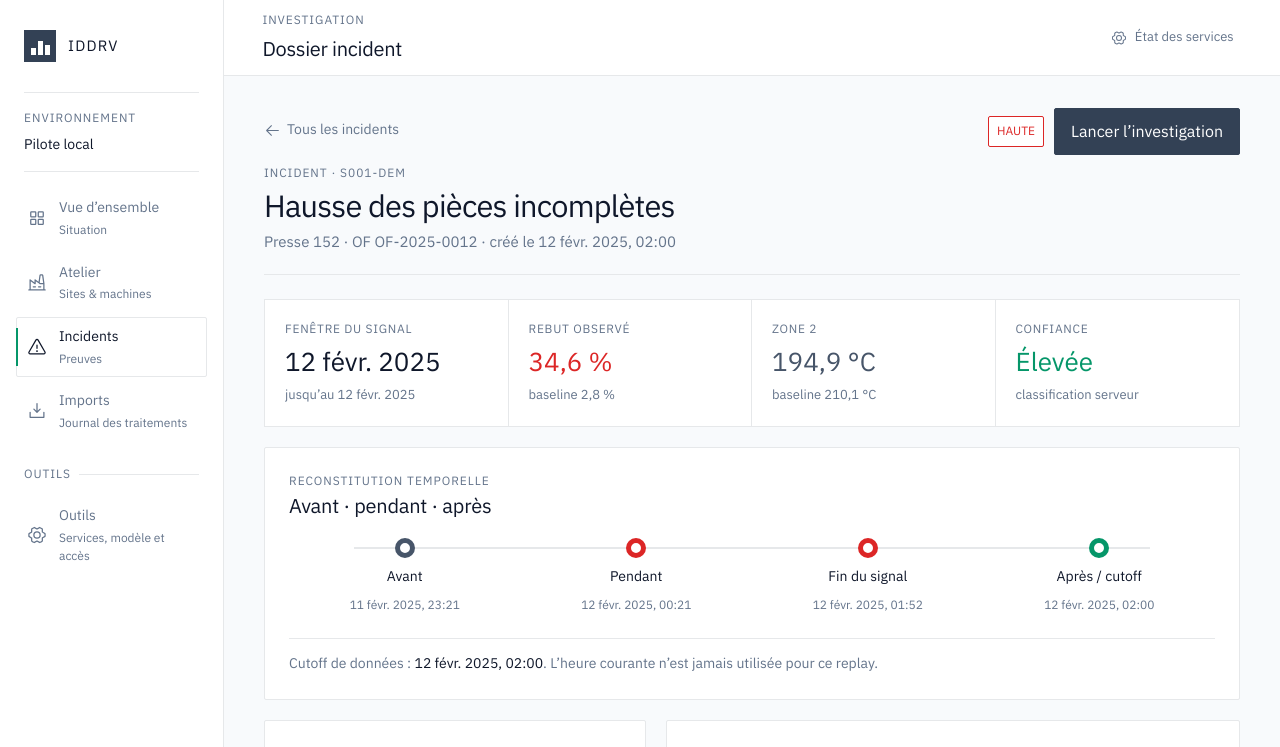
Test: IncidentDetailPage › lance une investigation et affiche le succès
Check: the heading "Hausse des pièces incomplètes" is shown, box [264, 189, 676, 222]
Step 1. Click the button "Lancer l’investigation" → (1147, 131), box [1054, 108, 1240, 155]
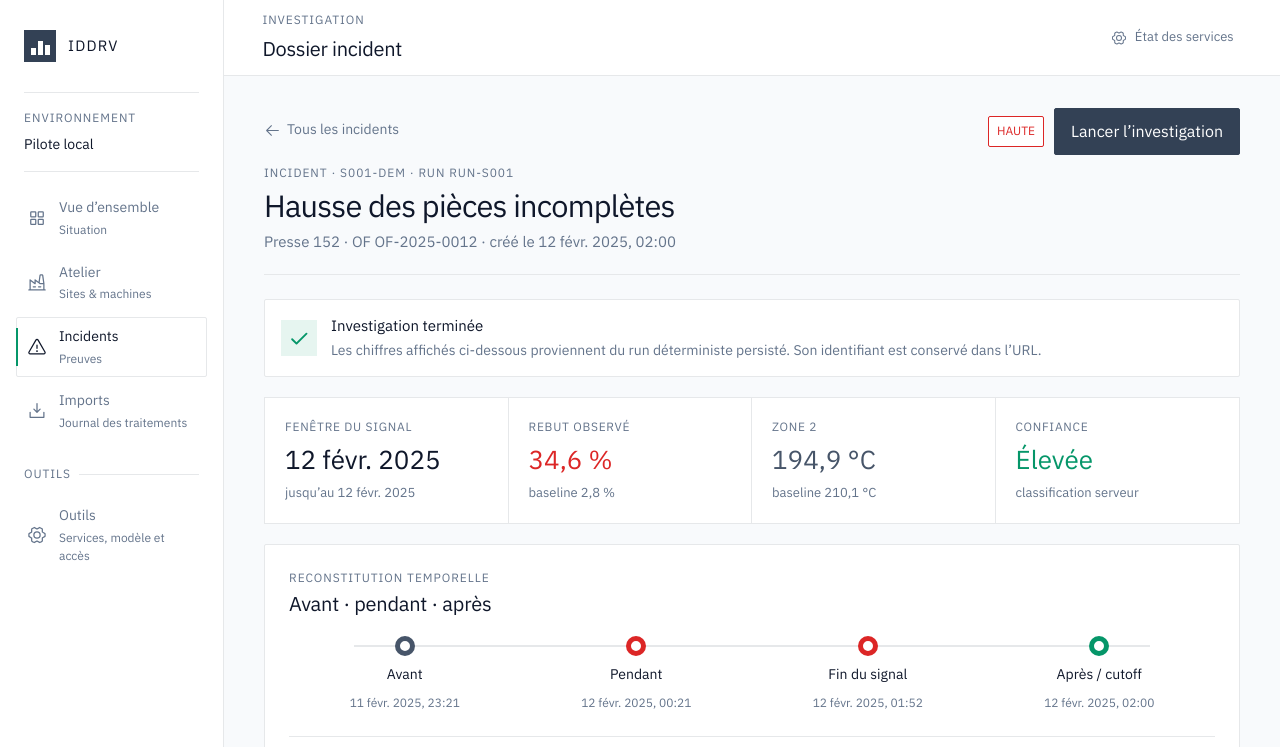
Check: the text "Investigation terminée" is shown, box [331, 316, 483, 335]
